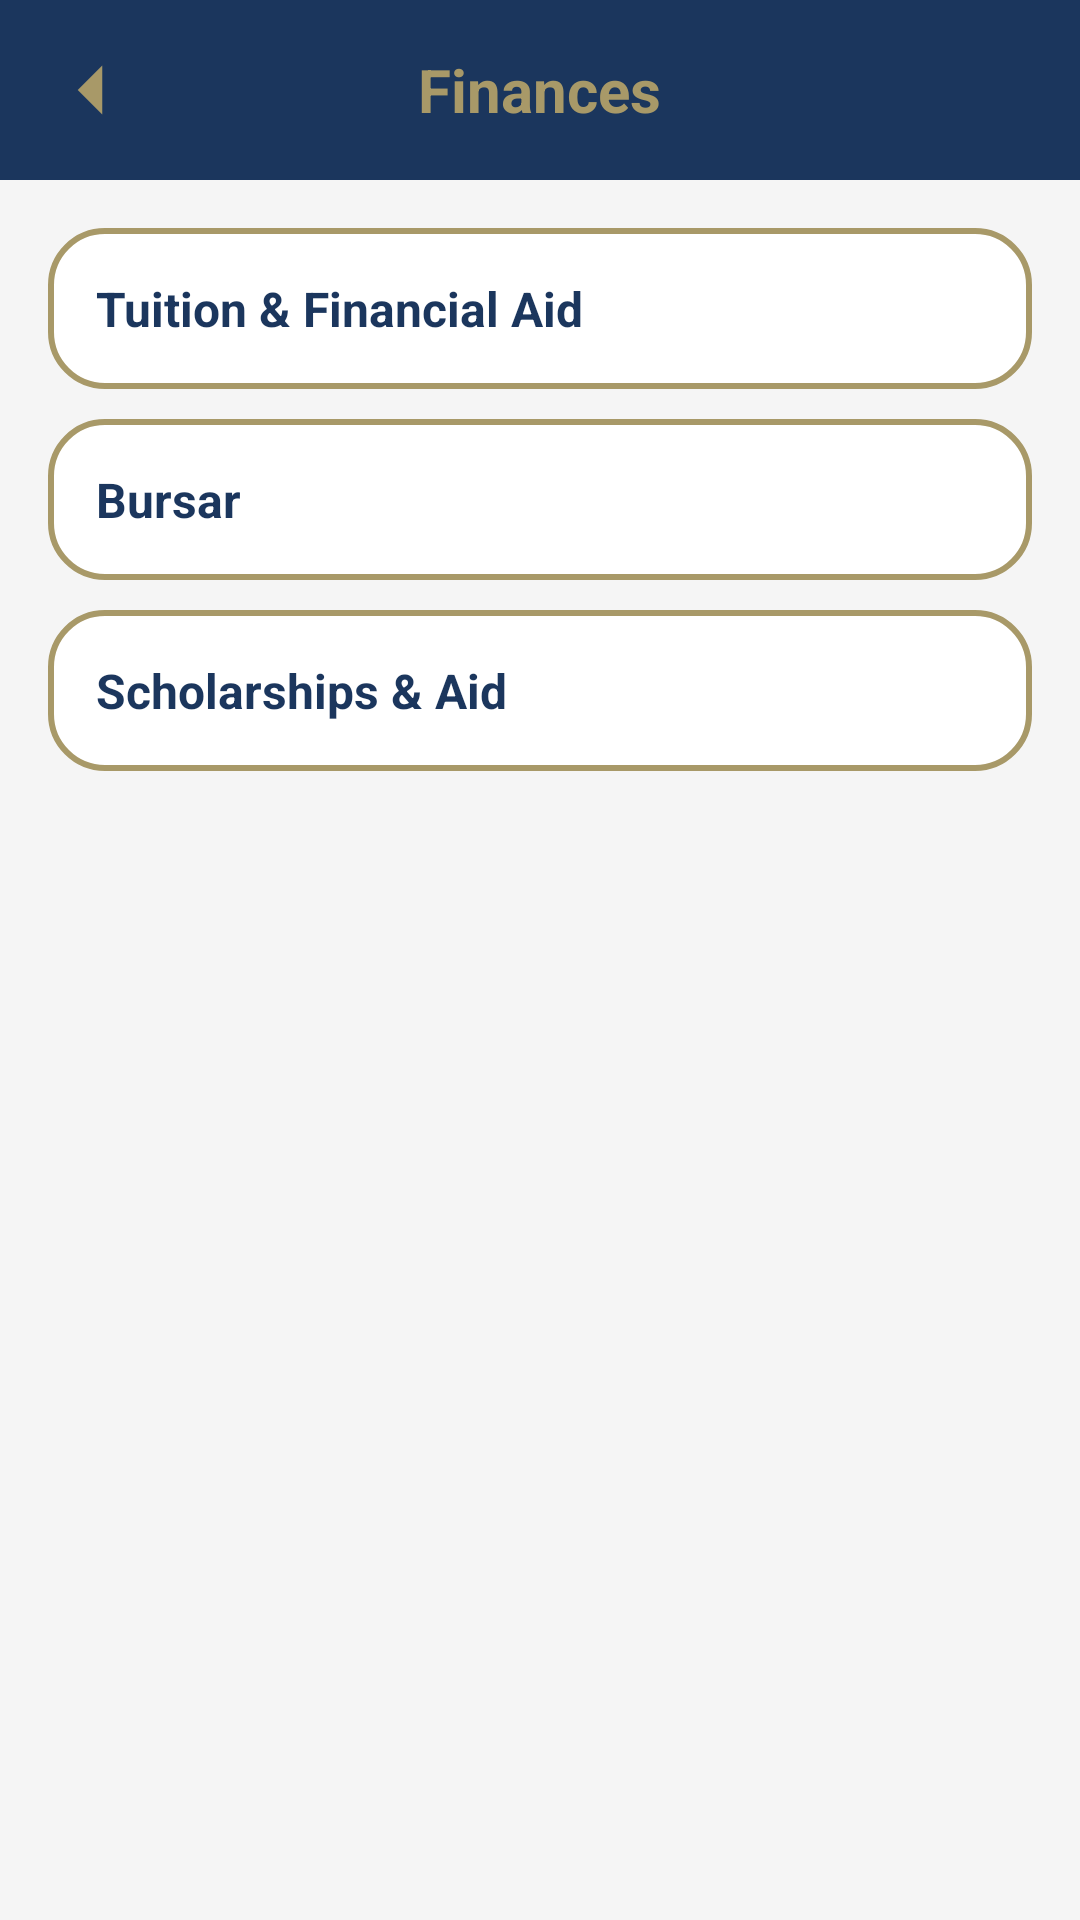

Screen size 1080px x 1920px. Icon name, then its box in pixels as (x1, y1, x2, y2):
back: (78, 66, 103, 114)
